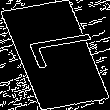L_E: (11, 33, 99, 77)
